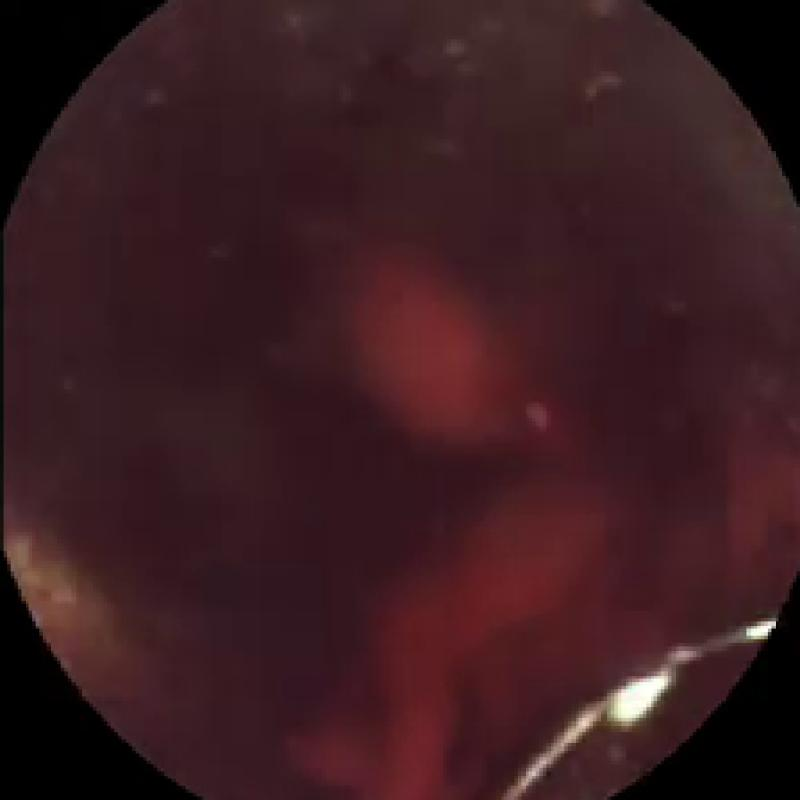bleeding: (314, 253, 596, 793), (673, 453, 797, 606)
